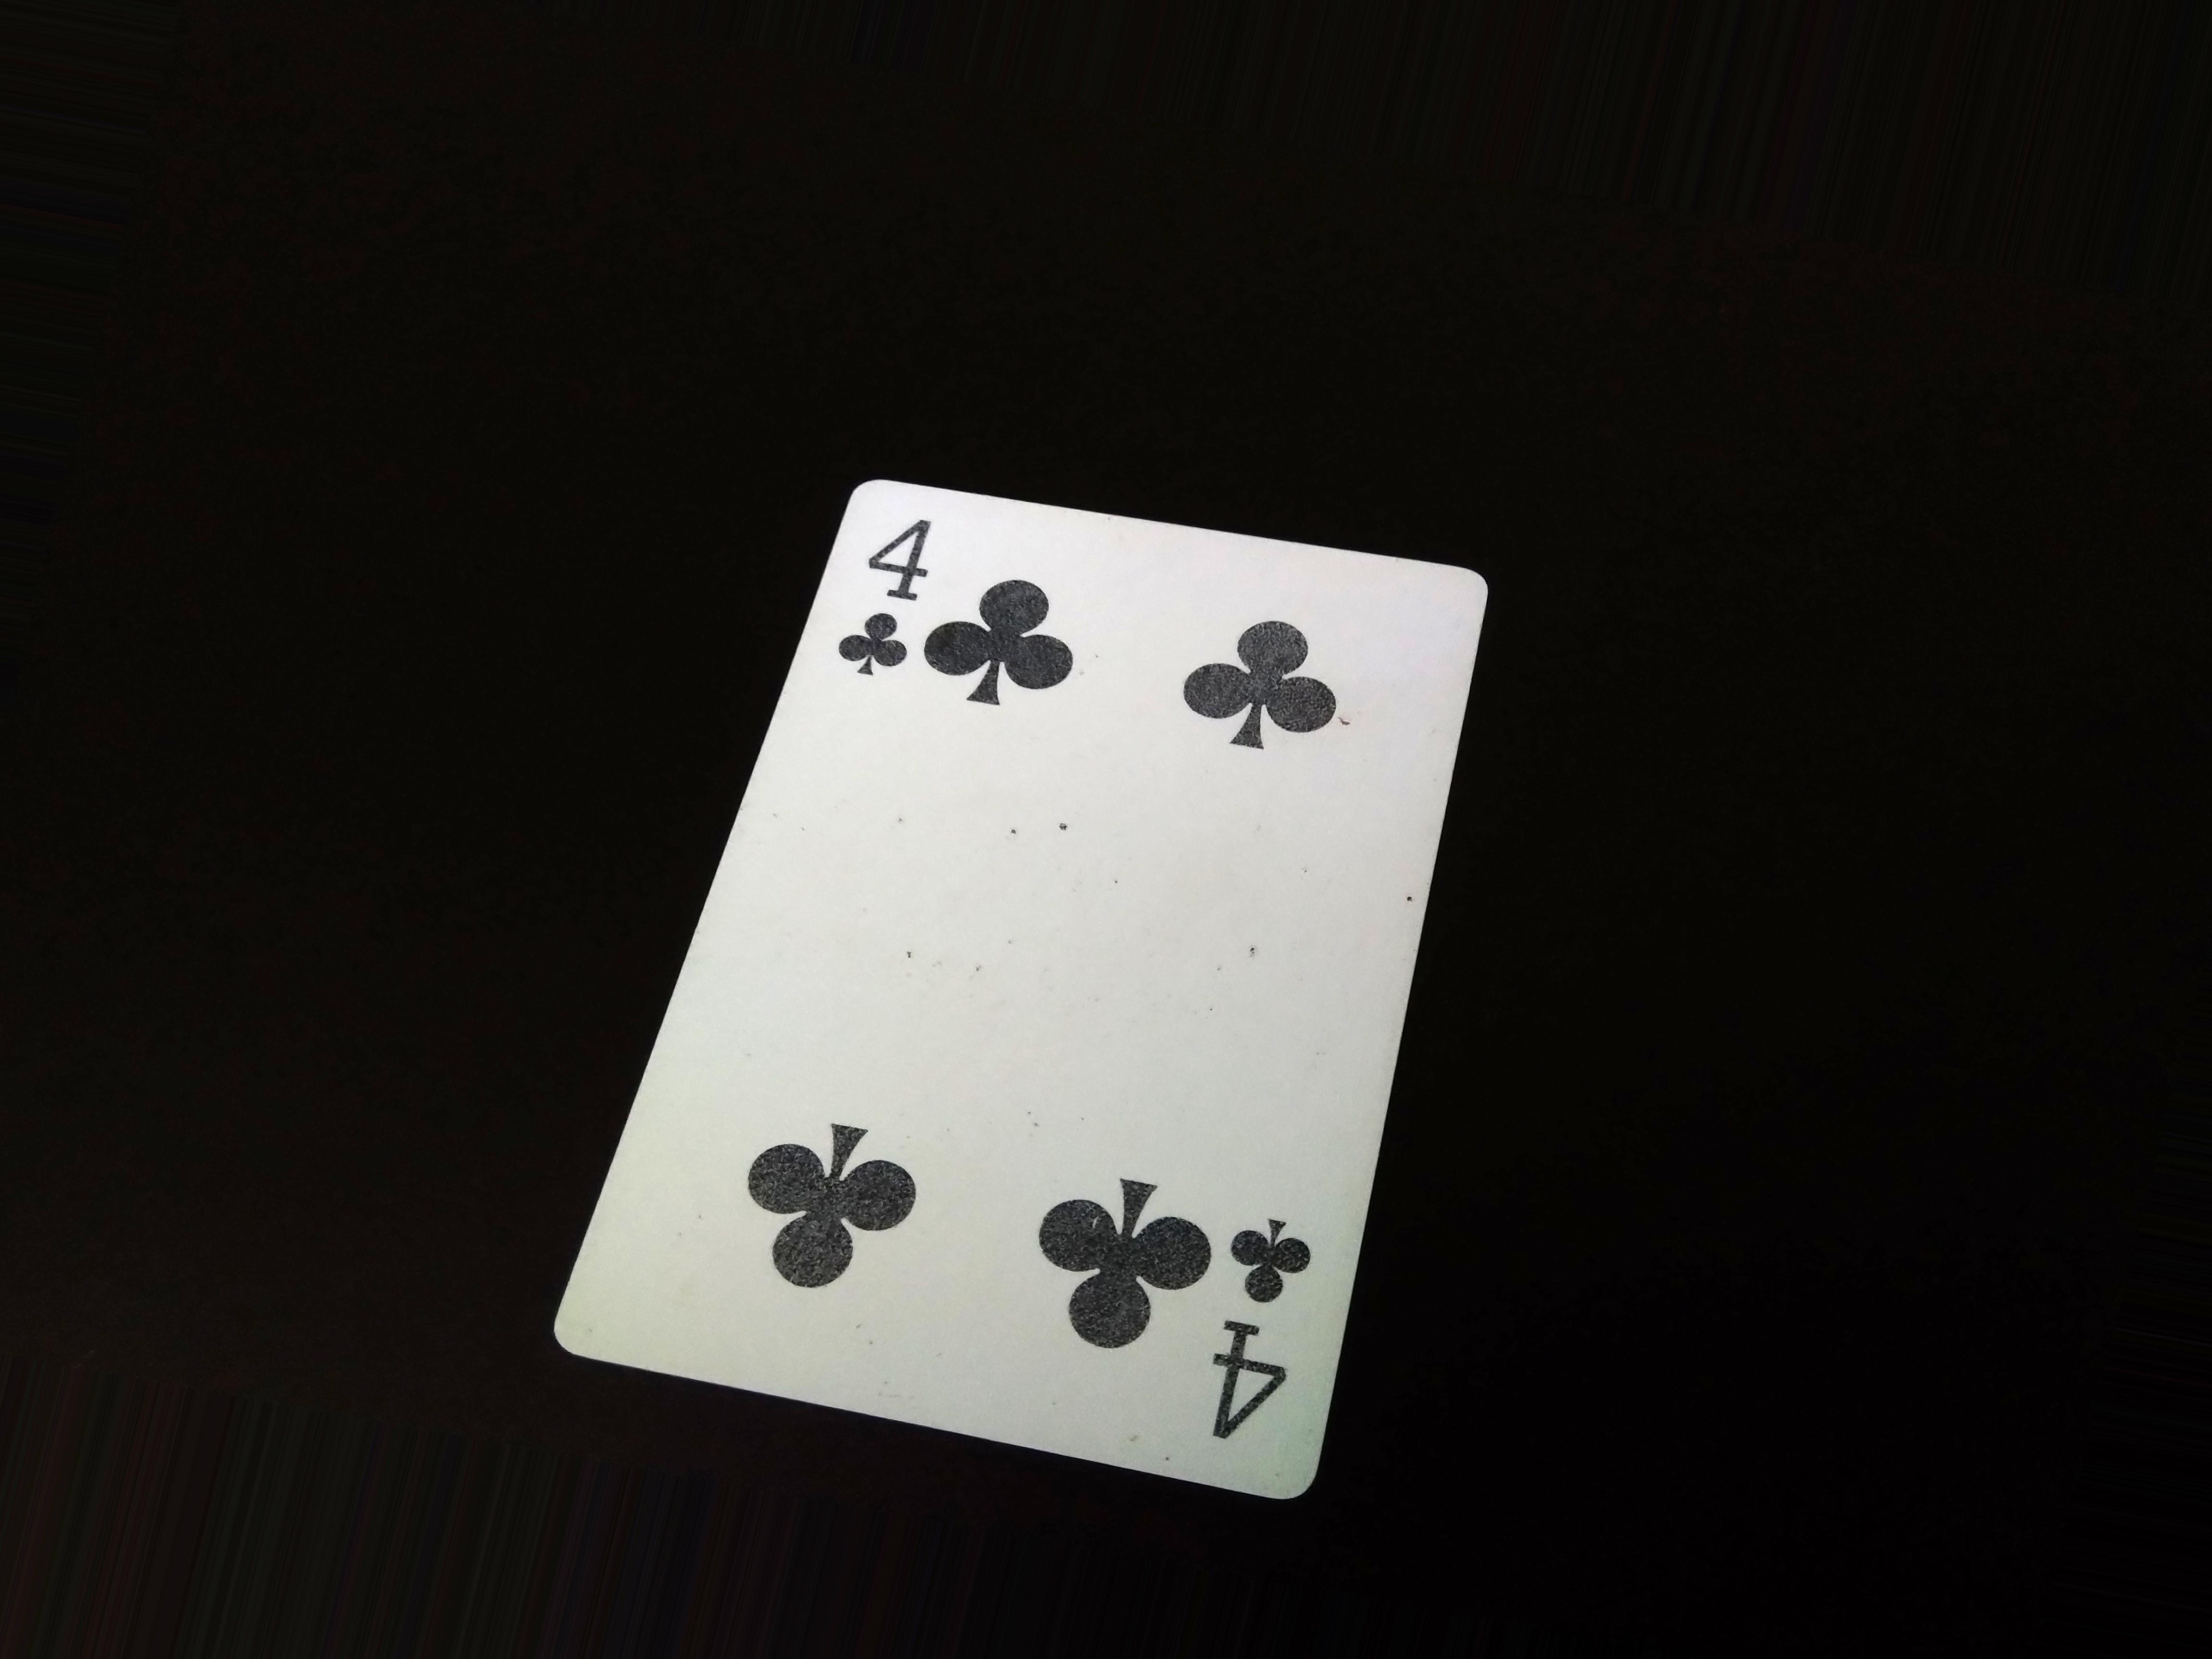4C: (836, 504, 941, 701)
